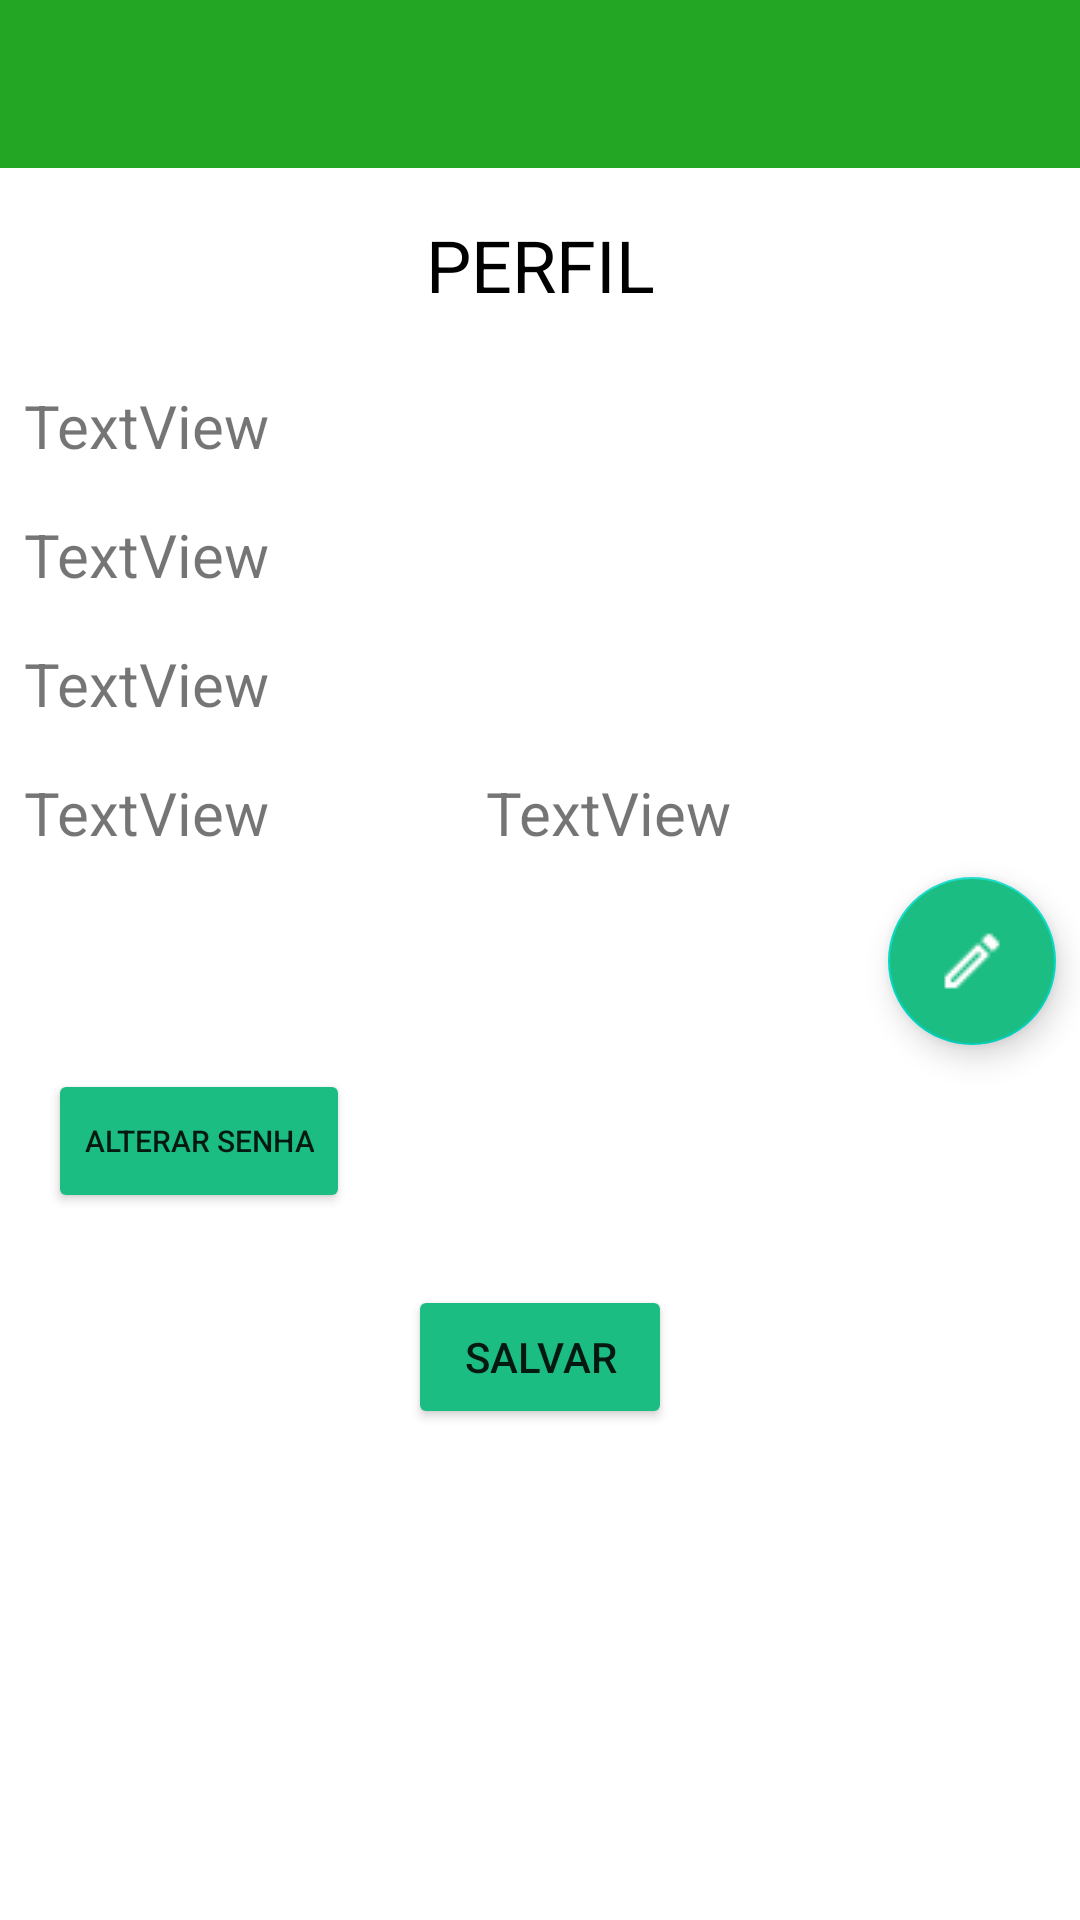

Icons on this 1080px x 1920px Android screen, each with the point to tap as [x,y]:
editar: [972,961]
